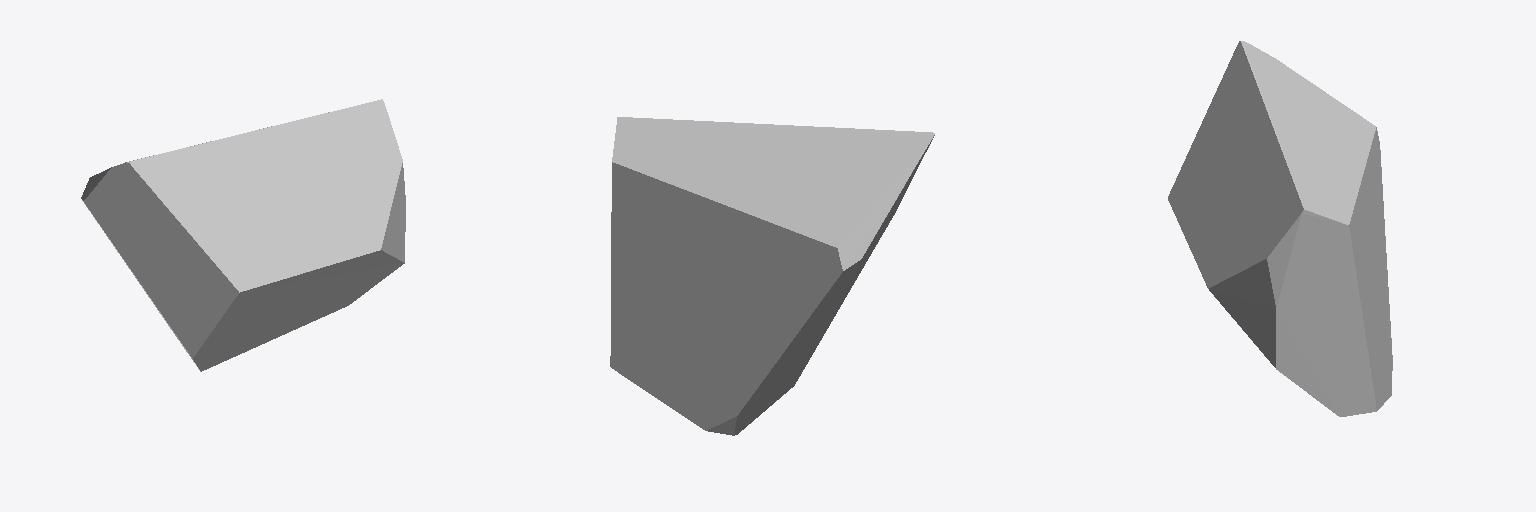
Rendered from Sphere_Cell_Fracture13.obj.
The picture shows the model from 3 angles: view 1: azimuth 30°, elevation 25°; view 2: azimuth 150°, elevation 25°; view 3: azimuth 270°, elevation 25°; orthographic projection.
Size of the model in its own units: 0.8496 by 0.7926 by 0.5593.